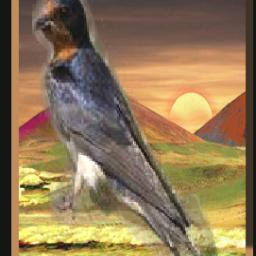Swallow: (33, 0, 219, 256)
